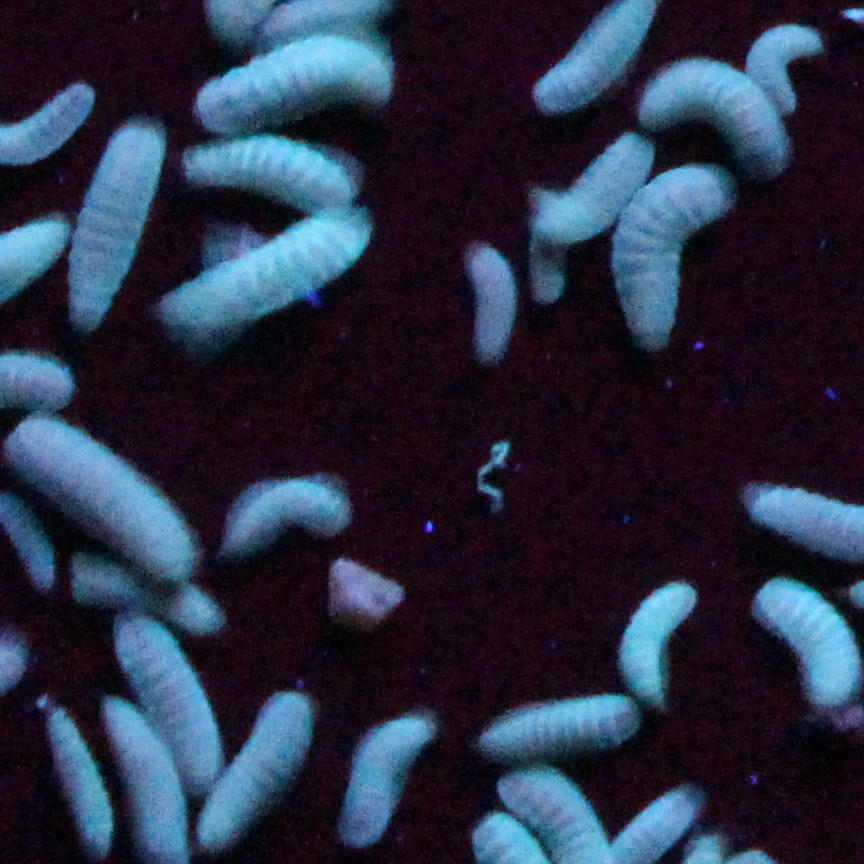larve: (161, 225, 375, 345), (47, 119, 150, 328), (615, 168, 724, 342), (201, 702, 310, 842), (187, 48, 390, 122), (124, 630, 216, 782), (747, 585, 858, 708), (647, 62, 787, 156), (33, 705, 115, 859), (333, 716, 421, 850), (170, 130, 333, 202), (236, 476, 350, 556), (475, 699, 627, 756), (615, 582, 690, 688), (750, 25, 813, 110), (473, 253, 513, 359)
